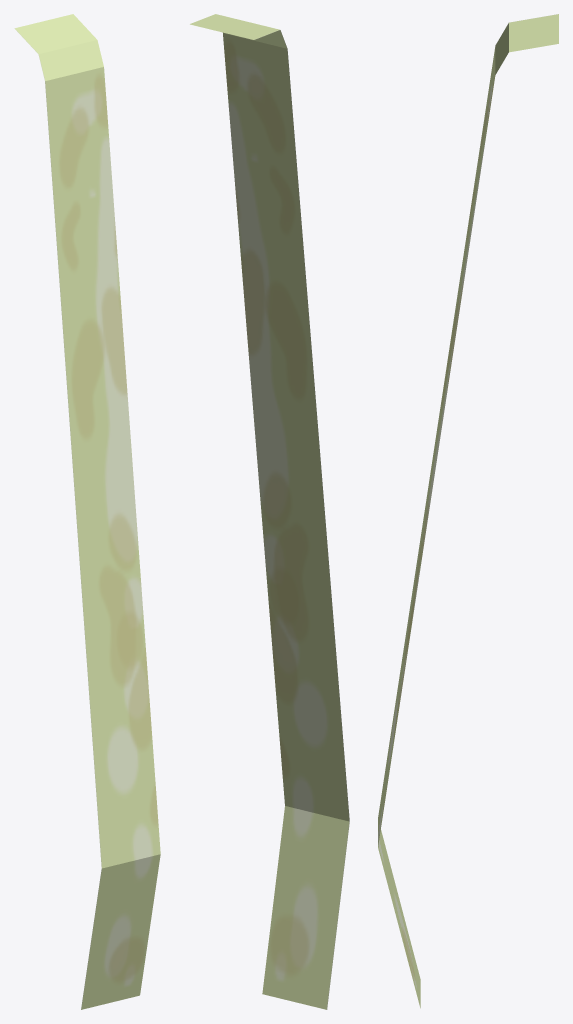
File: M_Home_Garden_Violin_Snares.fbx
3 renders of one model, left to right at view 1: azimuth 30°, elevation 25°; view 2: azimuth 150°, elevation 25°; view 3: azimuth 270°, elevation 25°, orthographic. The views are drawn at different scales.
Parts seen in each view (by area): view 1: M_Home_Garden_Violin_Snares; view 2: M_Home_Garden_Violin_Snares; view 3: M_Home_Garden_Violin_Snares.
Part boxes in pixels (x1,y1,x2,y2): M_Home_Garden_Violin_Snares: (14,14,160,1009); M_Home_Garden_Violin_Snares: (190,14,349,1009); M_Home_Garden_Violin_Snares: (378,14,558,1008).
Size of the model in its own units: 4.07 by 61.45 by 10.43.
